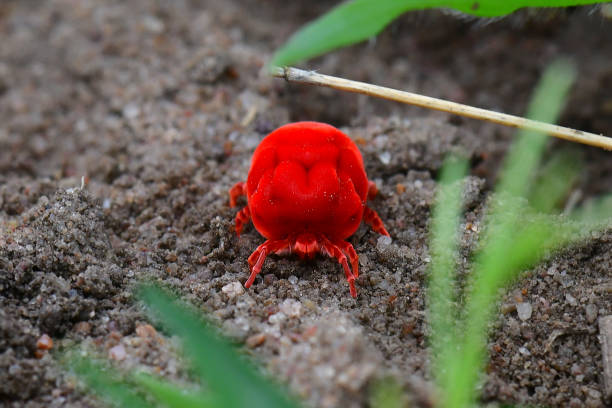Mites: (233, 113, 390, 300)
